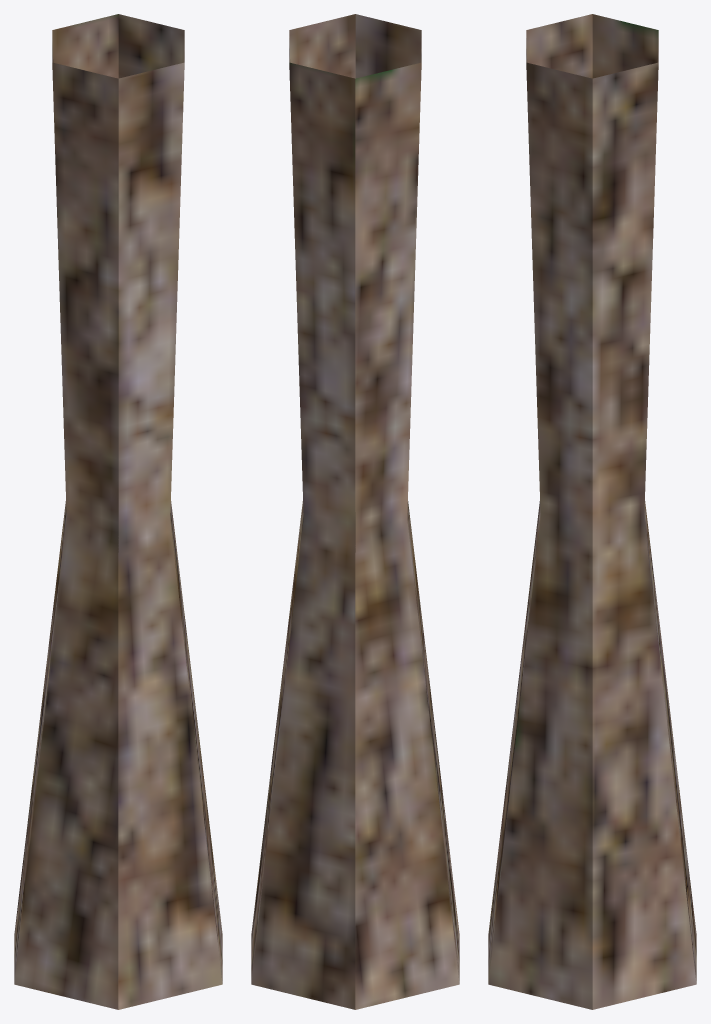
The model's file is tree_log.FBX.
3 views of the same model, side by side, from view 1: azimuth 30°, elevation 25°; view 2: azimuth 150°, elevation 25°; view 3: azimuth 270°, elevation 25° (orthographic).
Parts seen in each view (by area): view 1: tree_log; view 2: tree_log; view 3: tree_log.
Part boxes in pixels (left/top/right/bottom): tree_log: left=14, top=14, right=222, bottom=1009; tree_log: left=251, top=14, right=459, bottom=1009; tree_log: left=488, top=14, right=696, bottom=1009.
Size of what is drawn, in the model's own units: 3.14 by 2.72 by 13.17.
